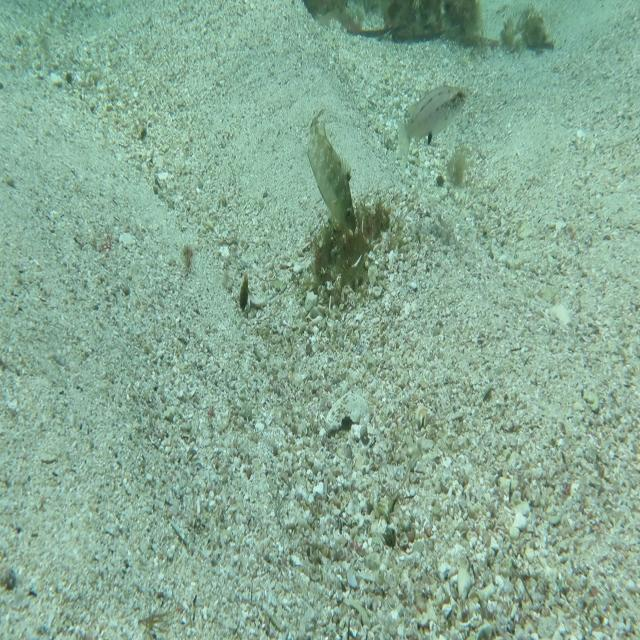INSF: (301, 105, 358, 238)
core_nest: (339, 196, 388, 241)
female: (397, 80, 470, 162)
nest: (304, 190, 397, 312)
